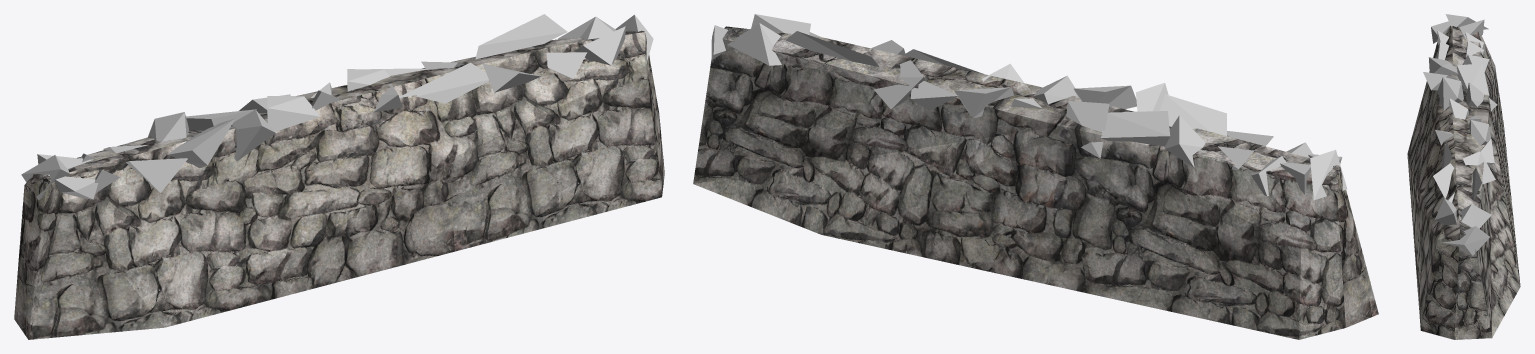
Rendered from Wall_1_LOD3.fbx.
The picture shows the model from 3 angles, left to right: view 1: azimuth 30°, elevation 25°; view 2: azimuth 150°, elevation 25°; view 3: azimuth 270°, elevation 25°; orthographic projection. The views are drawn at different scales.
Visible parts, largest first — view 1: Wall, Rock; view 2: Wall, Rock; view 3: Wall, Rock.
Part boxes in pixels (box(x1,y1,x2,y2)): Wall: box(14, 30, 664, 339); Rock: box(21, 14, 653, 200); Wall: box(693, 26, 1378, 339); Rock: box(711, 14, 1347, 200); Wall: box(1407, 26, 1520, 339); Rock: box(1423, 14, 1497, 255).
Bounding box in the file's own units: 808 × 171 × 203.
